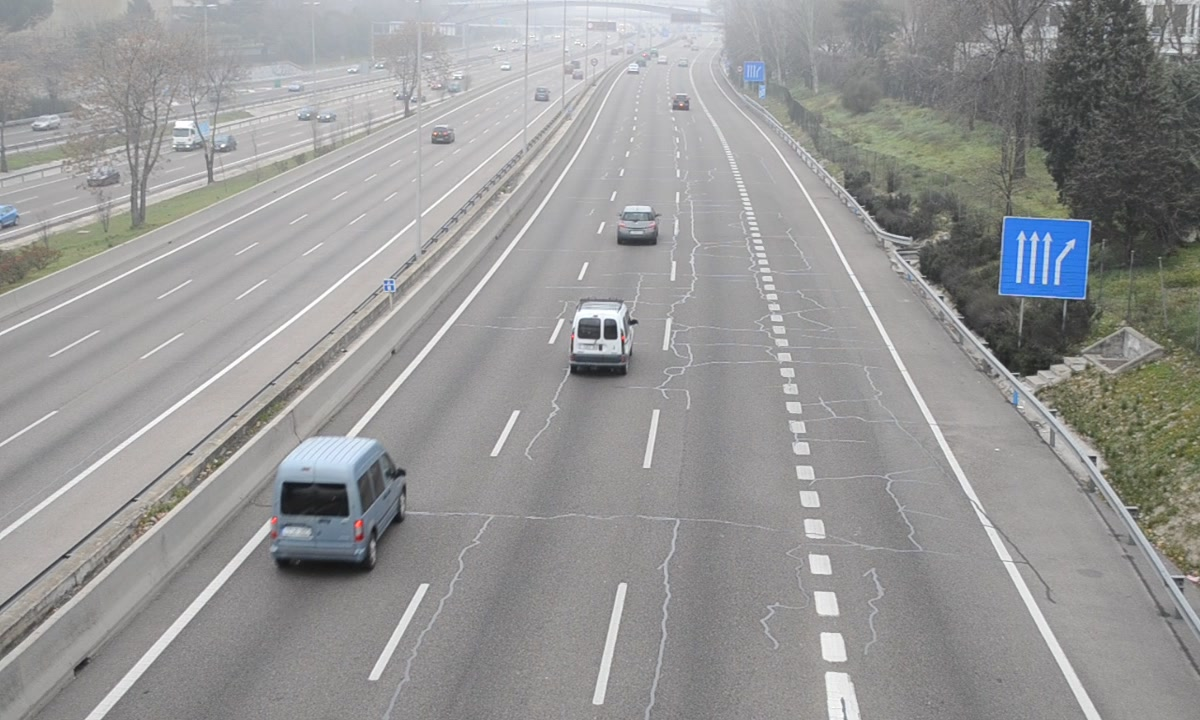car: (616, 205, 657, 243)
van: (270, 439, 404, 565), (570, 302, 632, 370)
